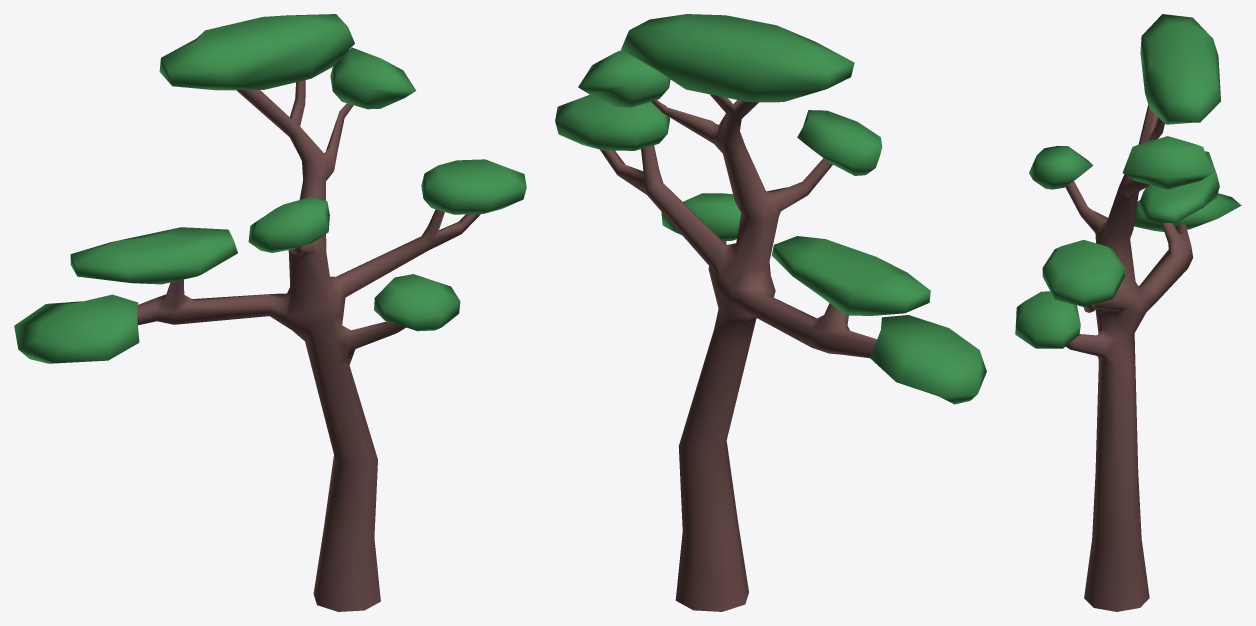
The model's file is Arvore_Japonesa_3.fbx.
3 renders of one model, left to right at view 1: azimuth 30°, elevation 25°; view 2: azimuth 150°, elevation 25°; view 3: azimuth 270°, elevation 25°, orthographic. The views are drawn at different scales.
Parts seen in each view (by area): view 1: Arvore_Japonesa_3; view 2: Arvore_Japonesa_3; view 3: Arvore_Japonesa_3.
Part boxes in pixels (x1,y1,x2,y2): Arvore_Japonesa_3: (14, 14, 526, 611); Arvore_Japonesa_3: (555, 14, 986, 611); Arvore_Japonesa_3: (1015, 14, 1241, 611).
Size of the model in its own units: 1.74 by 3.73 by 4.45.
